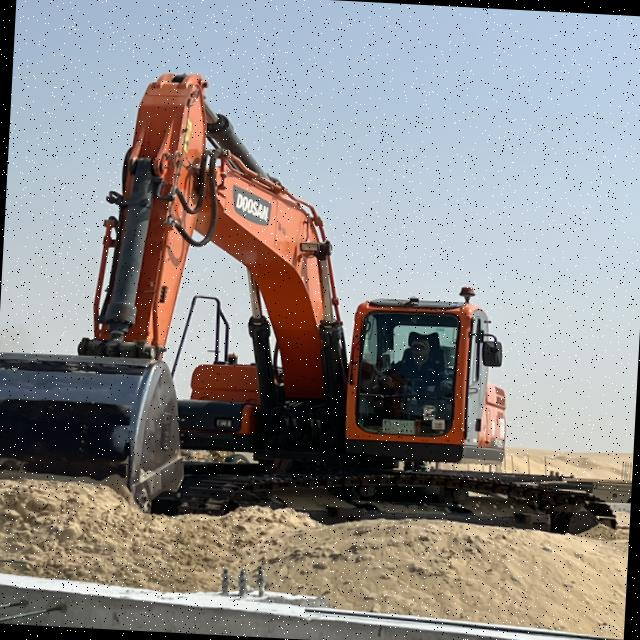Excavator: (0, 58, 640, 548)
